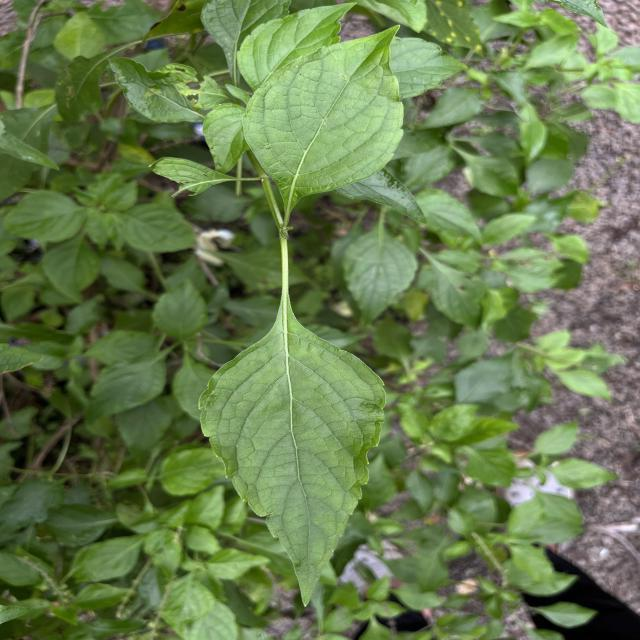Ocimum gratissimum: (195, 276, 390, 610), (238, 19, 408, 226), (232, 0, 360, 96)
